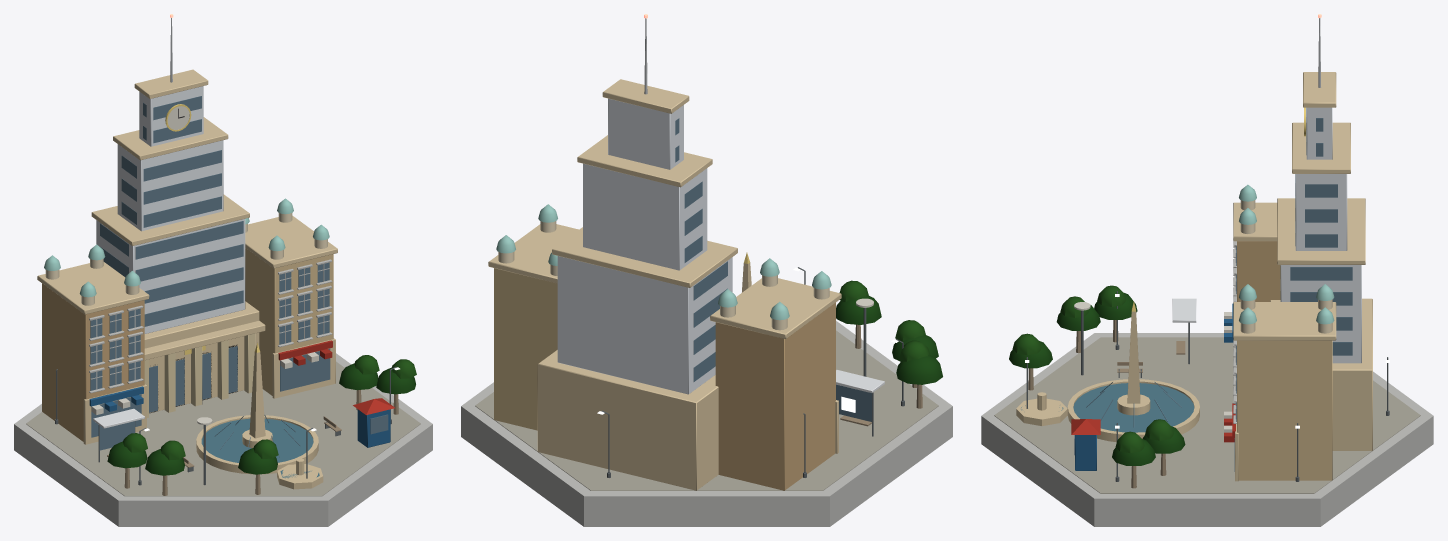
File: cityCenter_arab.glb
3 views of the same model, side by side, from view 1: azimuth 30°, elevation 25°; view 2: azimuth 150°, elevation 25°; view 3: azimuth 270°, elevation 25° (orthographic). The views are drawn at different scales.
Parts seen in each view (by area): view 1: stone, glass, wall_concrete, pavers, plaster, cladding, leaf, paint, copper, steel_dark, wood; view 2: stone, cladding, plaster, wall_concrete, pavers, leaf, glass, copper, steel_dark; view 3: pavers, stone, wall_concrete, plaster, glass, cladding, leaf, paint, copper, wood, steel_dark.
Part boxes in pixels (bbox=[...]): stone: bbox=[37, 69, 337, 489]; glass: bbox=[90, 96, 388, 478]; wall_concrete: bbox=[14, 259, 432, 526]; pavers: bbox=[26, 361, 420, 496]; plaster: bbox=[42, 213, 333, 441]; cladding: bbox=[93, 86, 245, 428]; leaf: bbox=[107, 355, 416, 475]; paint: bbox=[89, 106, 394, 447]; copper: bbox=[44, 198, 329, 297]; steel_dark: bbox=[55, 367, 396, 485]; wood: bbox=[107, 390, 398, 495]; stone: bbox=[488, 79, 841, 490]; cladding: bbox=[557, 98, 884, 394]; plaster: bbox=[494, 221, 835, 490]; wall_concrete: bbox=[461, 321, 952, 526]; pavers: bbox=[475, 330, 938, 490]; leaf: bbox=[836, 280, 942, 384]; glass: bbox=[675, 118, 871, 421]; copper: bbox=[496, 204, 831, 320]; steel_dark: bbox=[602, 267, 904, 477]; pavers: bbox=[994, 337, 1420, 493]; stone: bbox=[1016, 72, 1372, 481]; wall_concrete: bbox=[981, 241, 1433, 526]; plaster: bbox=[1237, 200, 1332, 480]; glass: bbox=[1021, 108, 1352, 471]; cladding: bbox=[1172, 107, 1361, 363]; leaf: bbox=[1009, 285, 1185, 465]; paint: bbox=[1071, 302, 1235, 470]; copper: bbox=[1239, 184, 1334, 324]; wood: bbox=[1028, 320, 1185, 488]; steel_dark: bbox=[1026, 291, 1389, 481].
Size of the model in its own units: 21.3 by 25.76 by 24.6.
